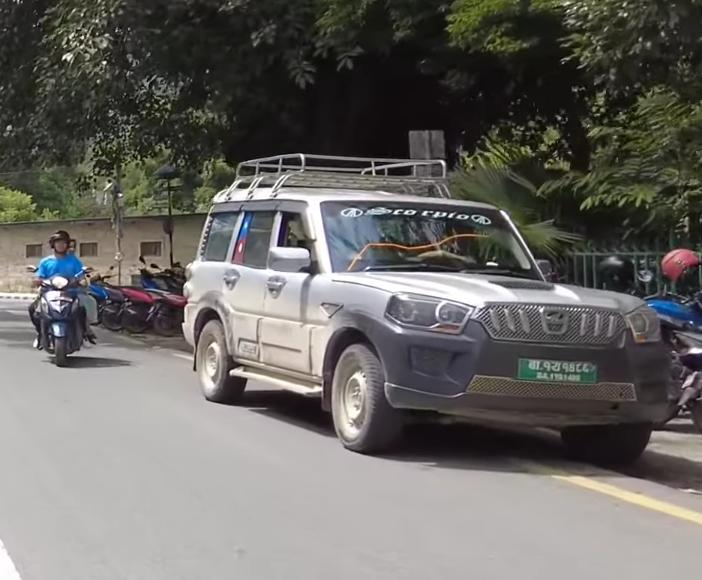SUV: (180, 151, 687, 468)
scooter: (19, 260, 97, 366)
